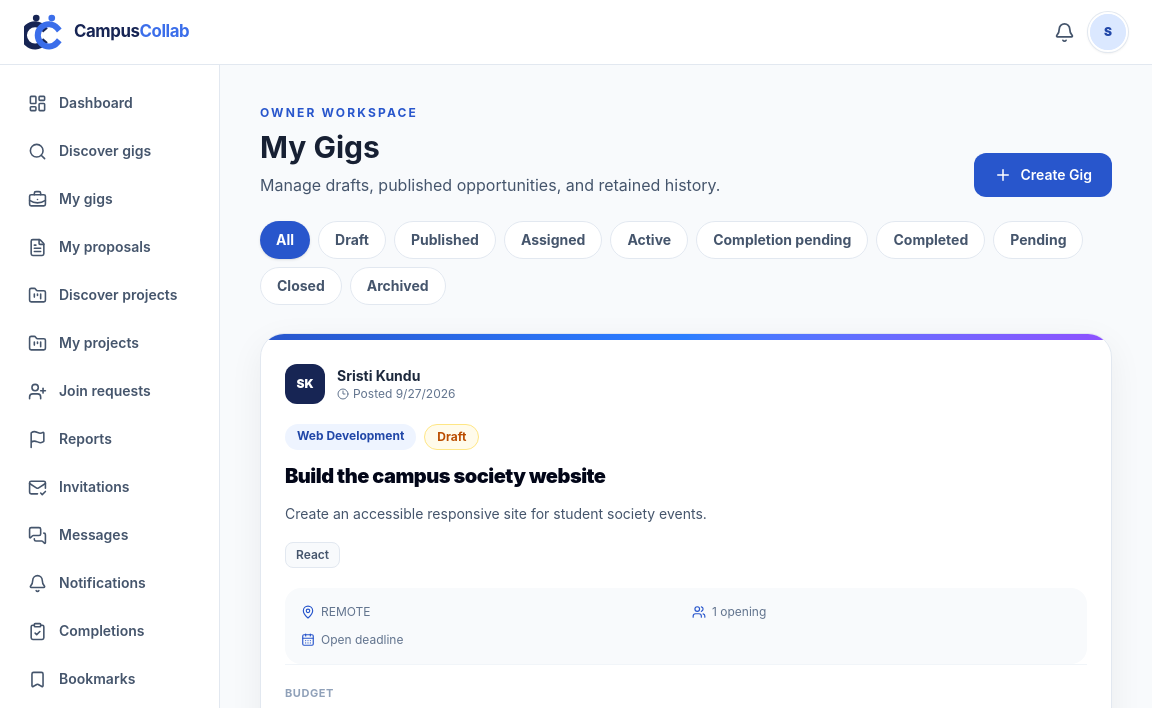
Test: Gigs Marketplace › removes a gig immediately when an action moves it outside the selected filter
Click the button "Draft": (352, 240) [318,221,386,259]
(page scrolled)
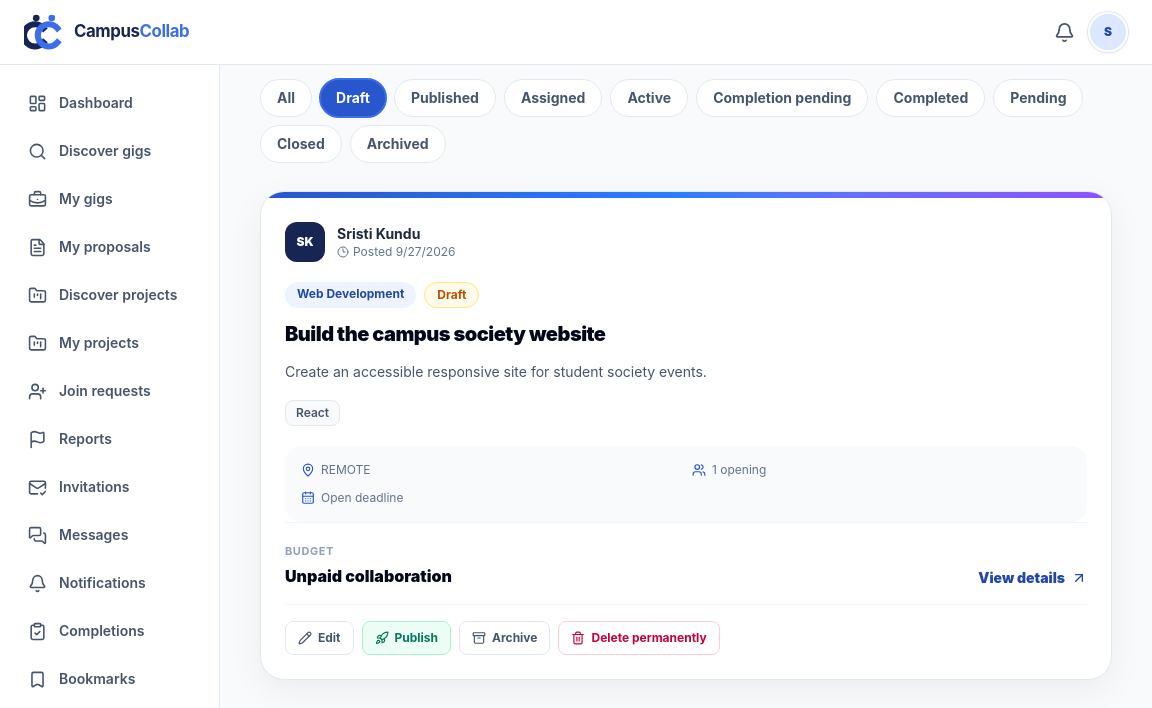
Expected: the text named "Gig status: Draft" is shown, [424,282,479,308]
Click the button "Publish": (406, 638) [362,620,451,654]
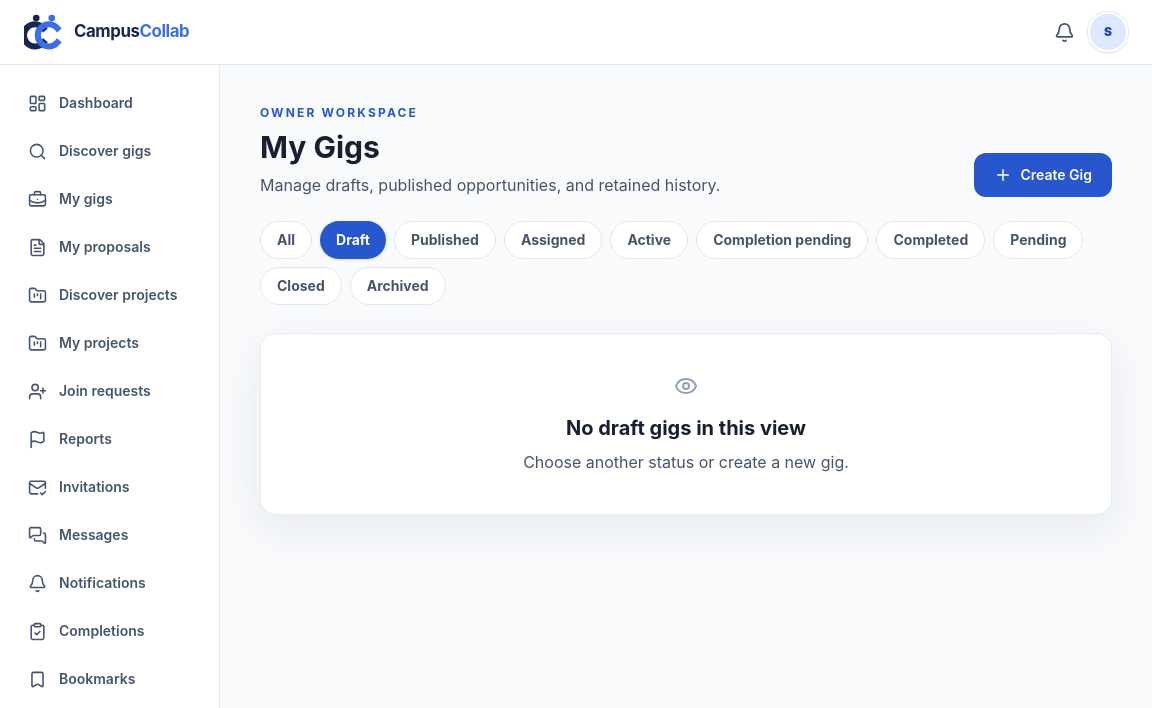
Expected: the heading "No draft gigs in this view" is shown, [566,416,806,440]
